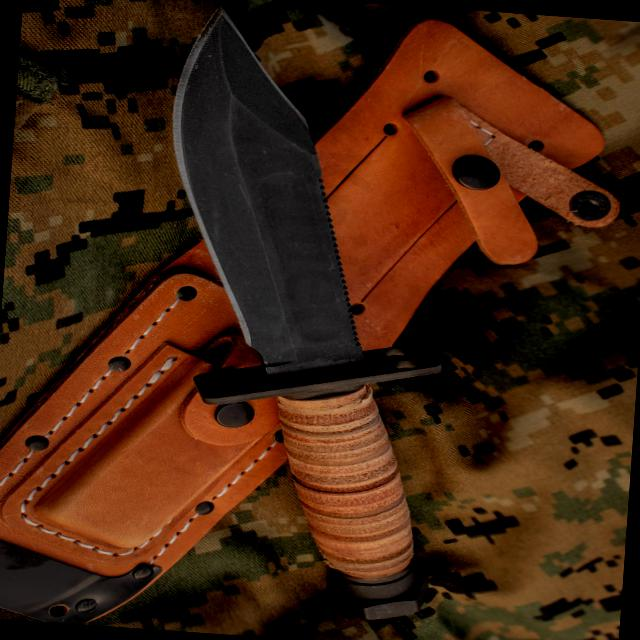knife: (134, 0, 400, 384)
